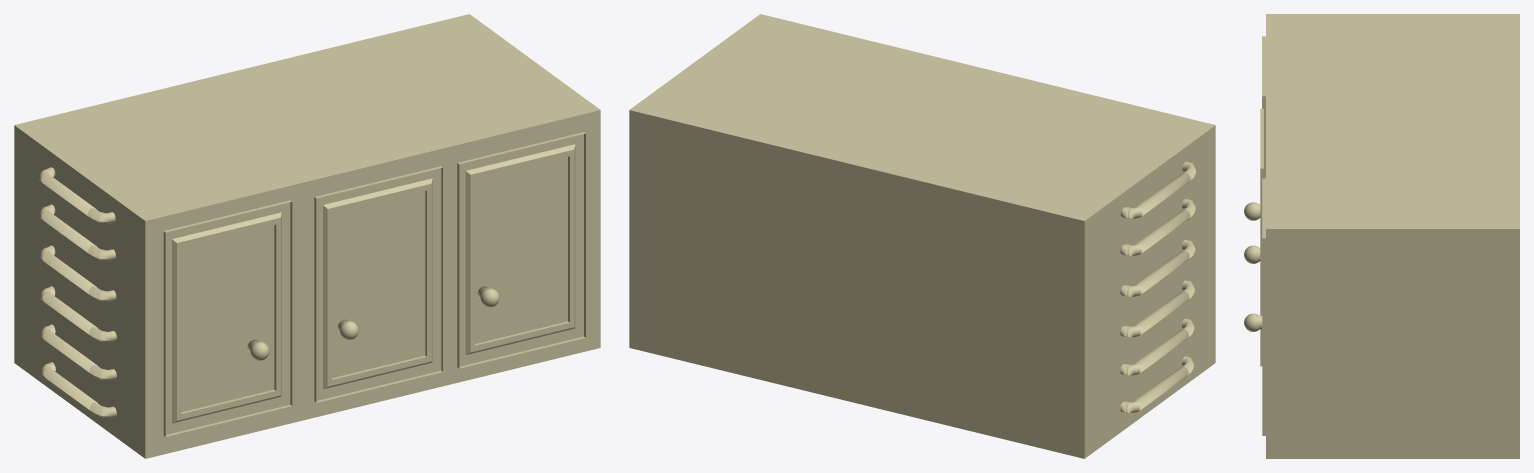
File: placard_rampe_v2.dae
The picture shows the model from 3 angles, left to right: view 1: azimuth 30°, elevation 25°; view 2: azimuth 150°, elevation 25°; view 3: azimuth 270°, elevation 25°; orthographic projection. The views are drawn at different scales.
Parts seen in each view (by area): view 1: Cube, Plane_001, Plane_002, Plane_003; view 2: Cube; view 3: Cube, Plane_003, Plane_002, Plane_001, Cylinder_002.
Part boxes in pixels (<box>): Cube: <box>14,14,600,458</box>; Plane_001: <box>163,200,292,436</box>; Plane_002: <box>314,166,442,402</box>; Plane_003: <box>457,132,585,368</box>; Cube: <box>629,14,1215,458</box>; Cube: <box>1266,14,1519,458</box>; Plane_003: <box>1262,178,1265,435</box>; Plane_002: <box>1260,108,1263,366</box>; Plane_001: <box>1262,36,1265,178</box>; Cylinder_002: <box>1244,313,1262,331</box>.
Bounding box in the file's own units: 4.15 × 2.17 × 2.
